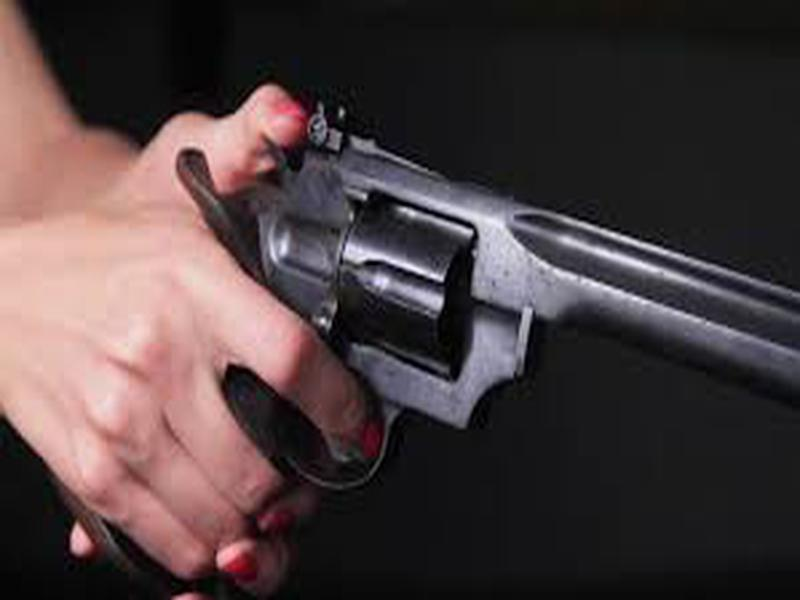gun: (1, 80, 800, 598)
